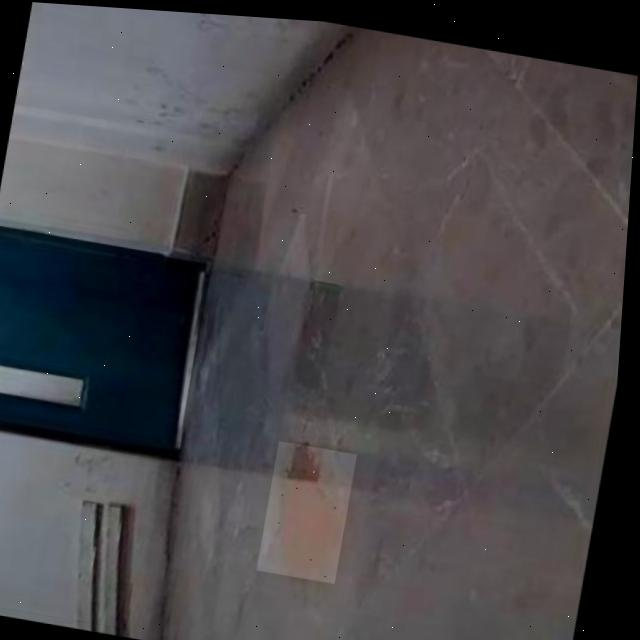spillage: (275, 439, 353, 573)
